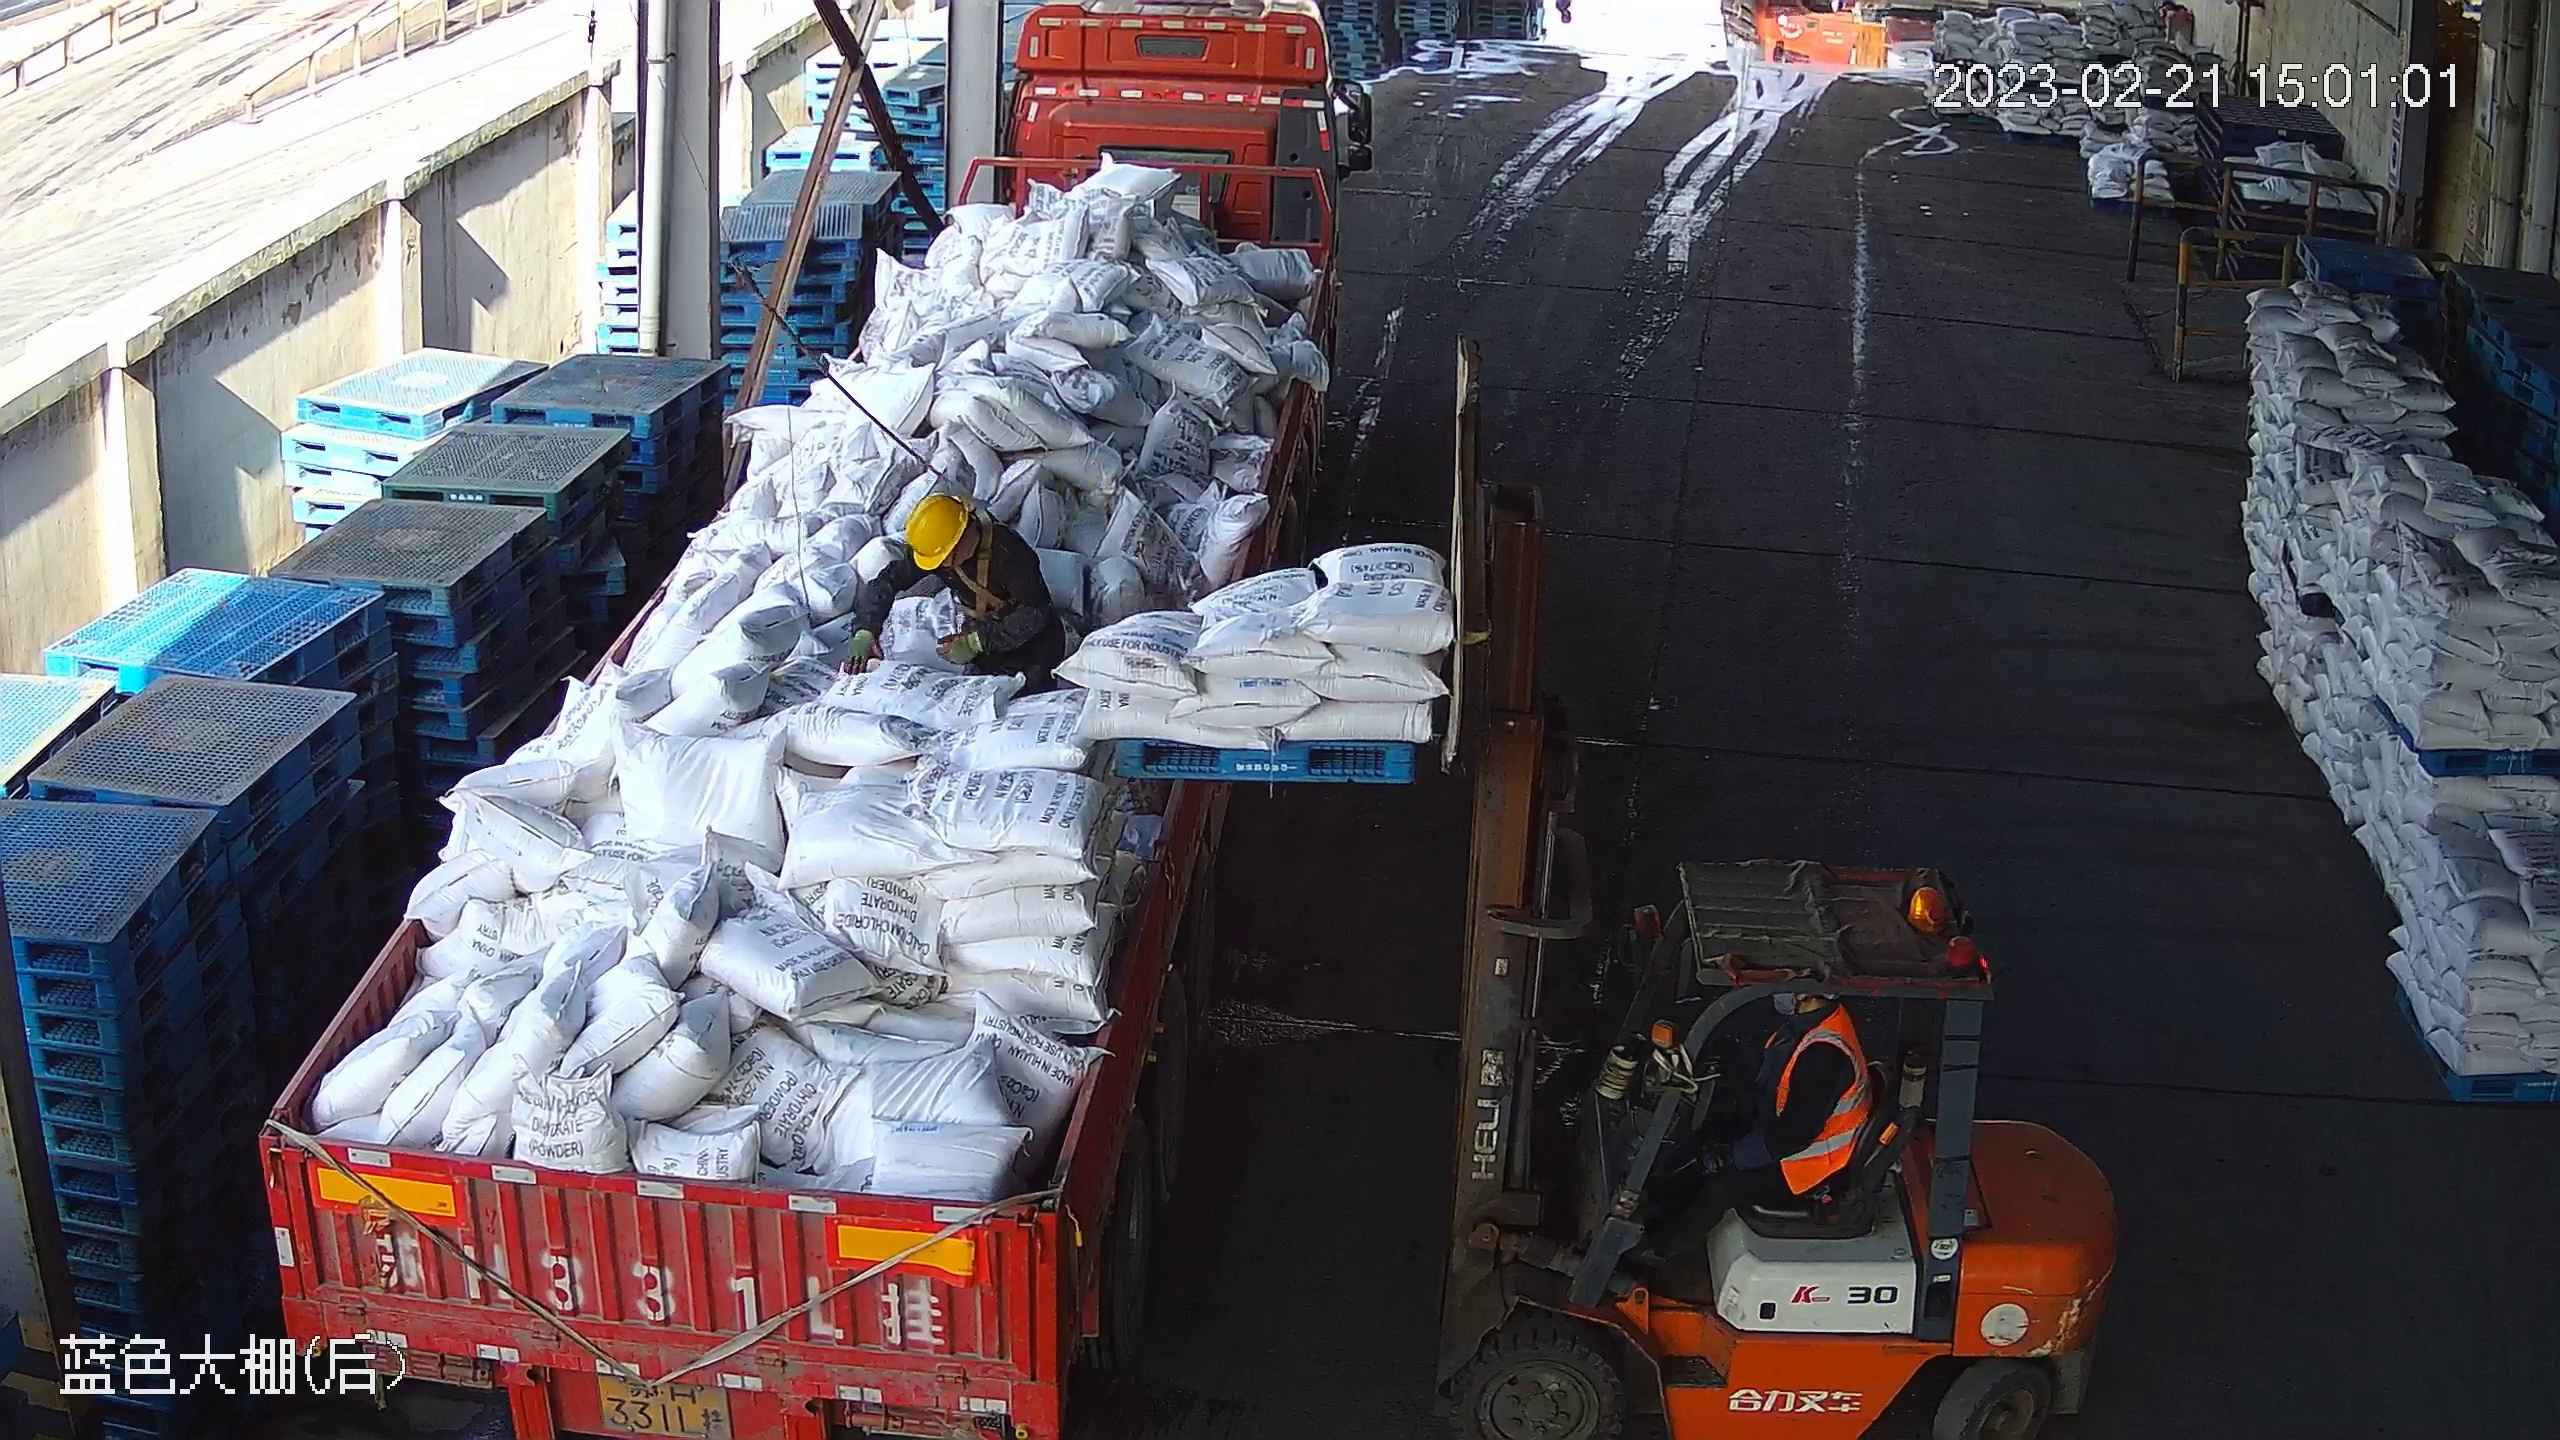belt: (954, 533, 1006, 620)
head: (887, 497, 1020, 611)
helmet: (903, 495, 968, 573)
people: (1620, 982, 1875, 1266), (849, 490, 1070, 694)
truck: (244, 8, 1377, 1440)
